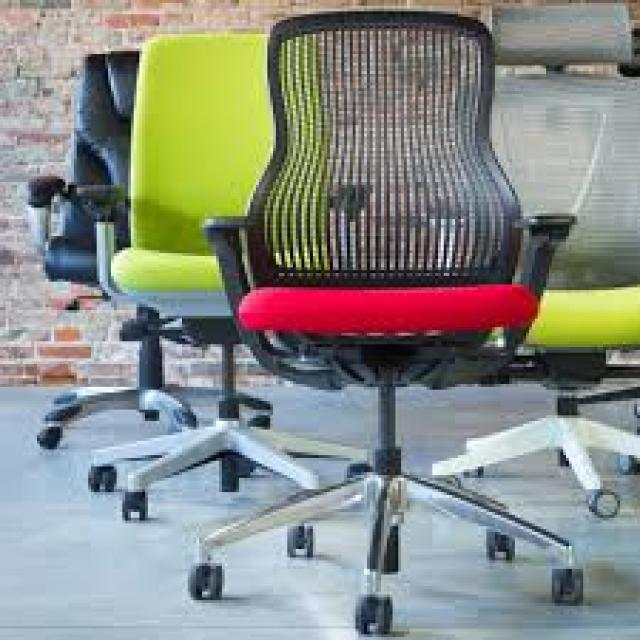chair: (172, 6, 600, 637), (79, 28, 381, 534), (418, 0, 640, 538), (0, 27, 176, 460)
